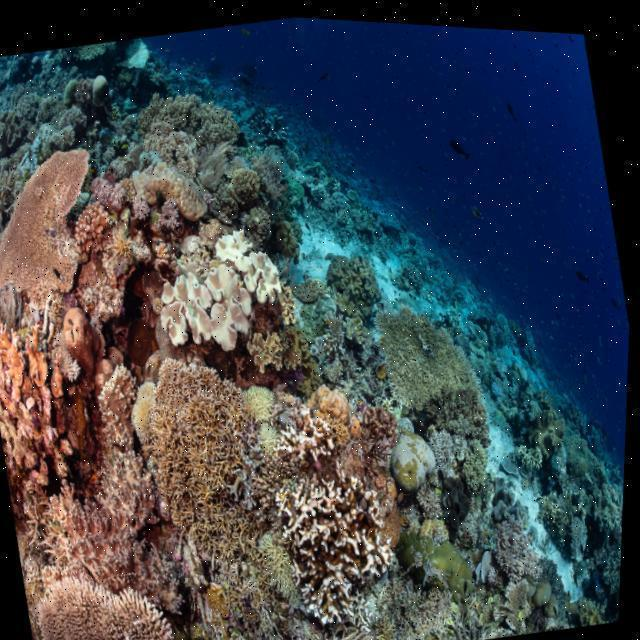Bleached Coral: (149, 219, 296, 360)
Healthy Coral: (119, 349, 260, 565), (19, 450, 175, 585), (25, 553, 194, 640), (378, 292, 484, 411), (0, 179, 81, 304), (134, 74, 252, 159), (0, 291, 75, 415), (244, 314, 330, 398), (325, 238, 395, 322), (255, 518, 306, 609), (69, 198, 116, 254), (89, 168, 136, 217), (275, 209, 307, 265), (226, 162, 267, 204), (277, 278, 306, 324), (113, 223, 137, 259), (160, 194, 183, 228), (322, 325, 345, 359), (132, 192, 151, 218)
